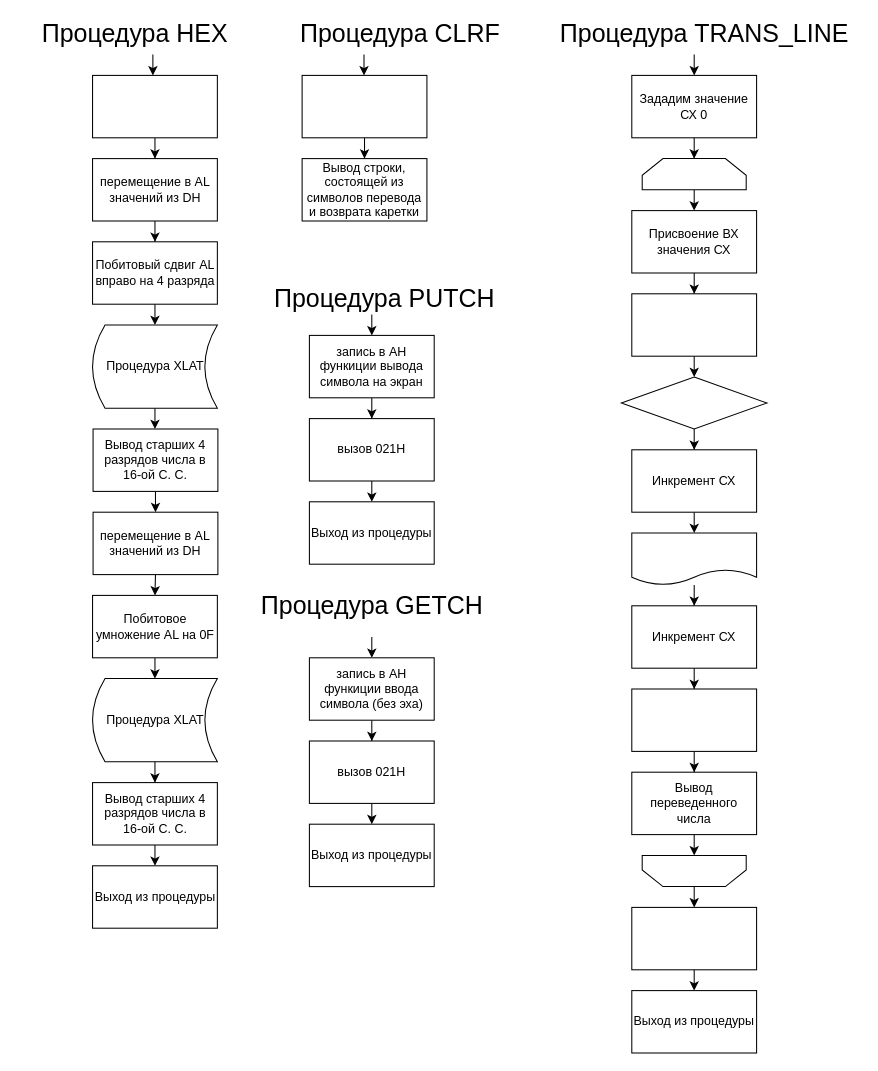
Some shapes in this 878 by 1071 pixel diagram are drawn without their labels. The shapes that lost their labels are listed below. From the top down, each one's box as (x1, y1, x2, y2) in pixels, then its label:
(92, 74, 217, 138): Перемещение в ВХ таблицы 16-ых цифр
(301, 74, 427, 138): Запись в АН номера функции вывода на экран строки
(641, 158, 746, 190): TRANSLATE
(631, 293, 757, 356): Присвоение DH одного из символов строки LINE_GET
(620, 376, 767, 429): DH = $?
(631, 532, 757, 585): Вызов HEX
(631, 688, 757, 751): Вывод пробела
(641, 854, 746, 887): LOOP TRANSLATE
(631, 906, 757, 970): Вывод пустой строки
